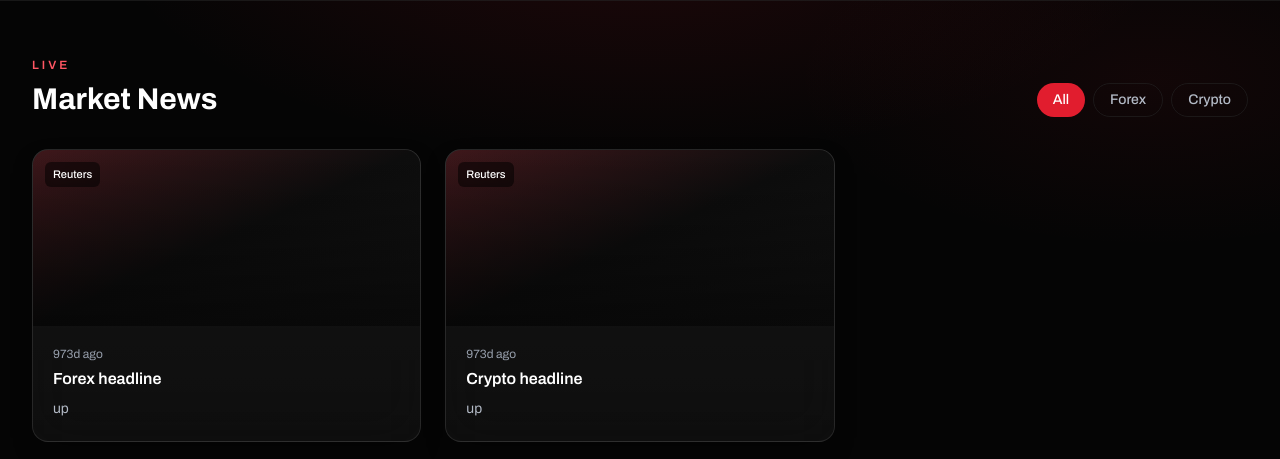
MarketNewsSection › shows category tabs and filters by the chosen category
The width and height of the screenshot is (1280, 459).
Check: the heading "Forex headline" is shown, box [53, 370, 161, 387]
Check: the heading "Crypto headline" is shown, box [466, 370, 582, 387]
// Clicking the Crypto tab hides the forex card.
Click the button "Crypto" at (1210, 100), box [1171, 83, 1248, 117]
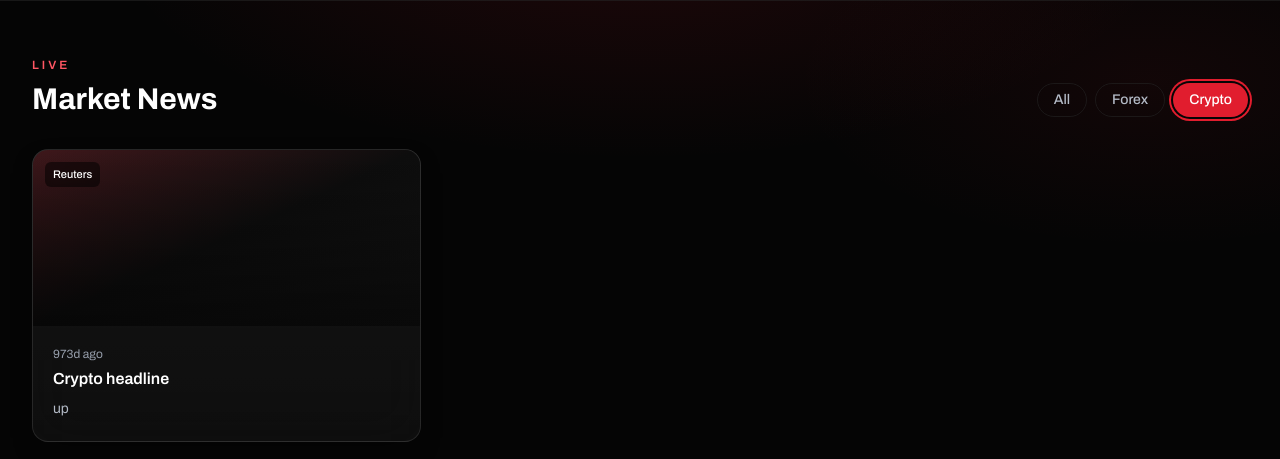
Check: the heading "Crypto headline" is shown, box [53, 370, 169, 387]
Check: the link "Forex headline" is gone
